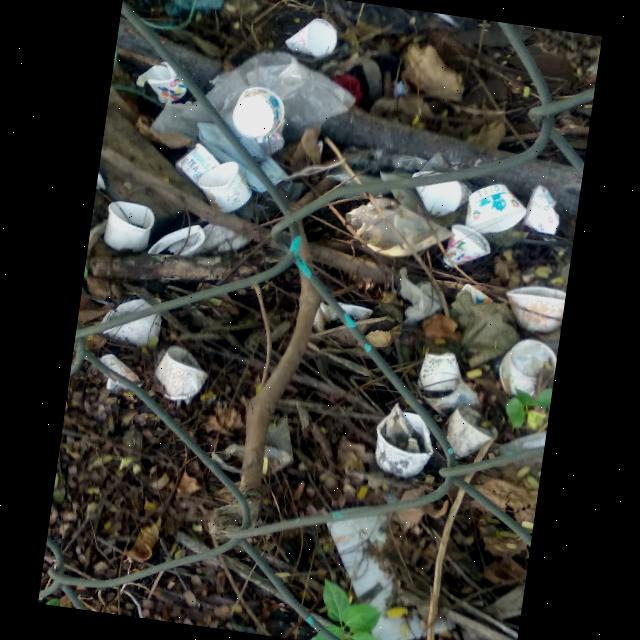trash: (148, 34, 362, 166), (311, 504, 463, 640), (340, 192, 455, 266), (370, 402, 440, 482), (462, 179, 530, 240), (150, 344, 212, 406), (98, 292, 164, 350), (194, 156, 257, 216), (442, 402, 498, 463), (407, 167, 468, 221), (101, 199, 157, 256), (441, 222, 494, 274), (147, 218, 208, 262), (283, 14, 340, 61), (522, 183, 564, 237), (94, 352, 143, 398)
